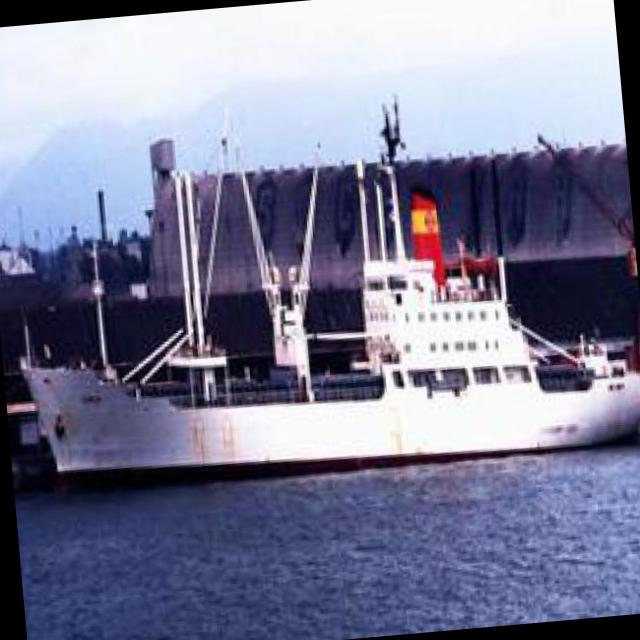boat: (9, 296, 640, 499)
